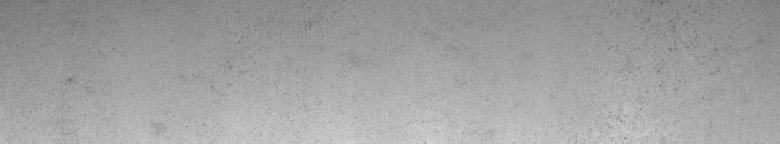ib: (609, 20, 720, 123)
